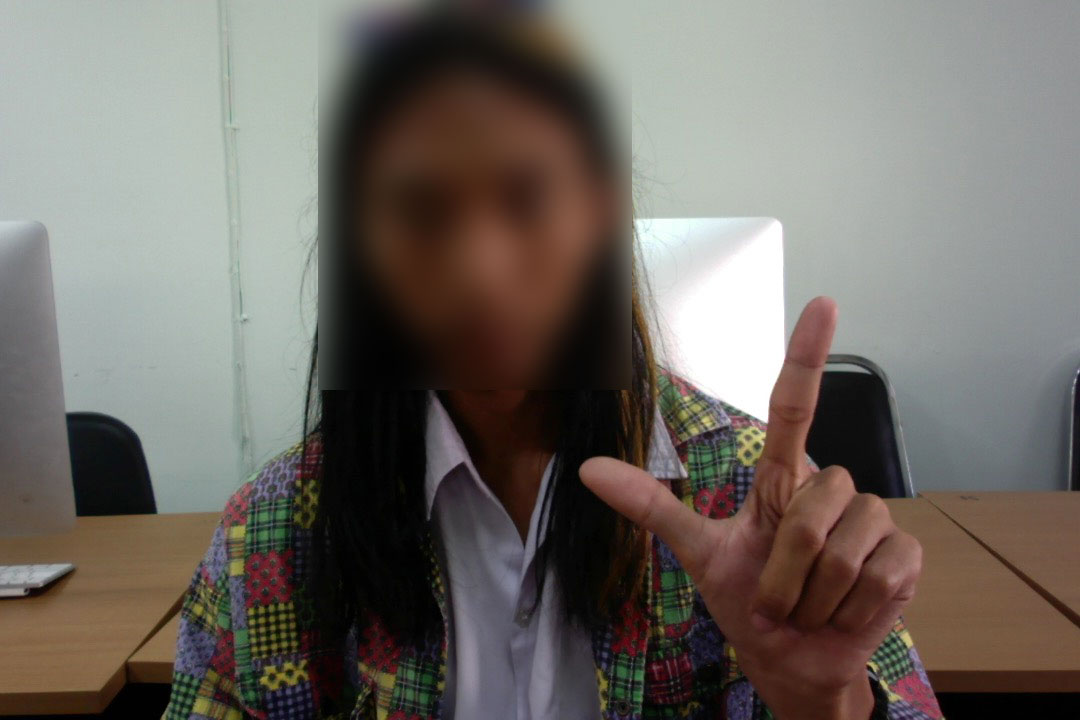lor: (549, 277, 958, 689)
